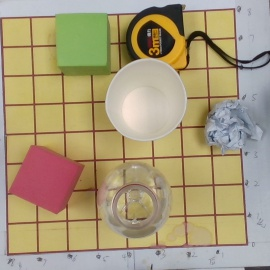bottle: (98, 164, 173, 239)
cup: (106, 58, 187, 141)
